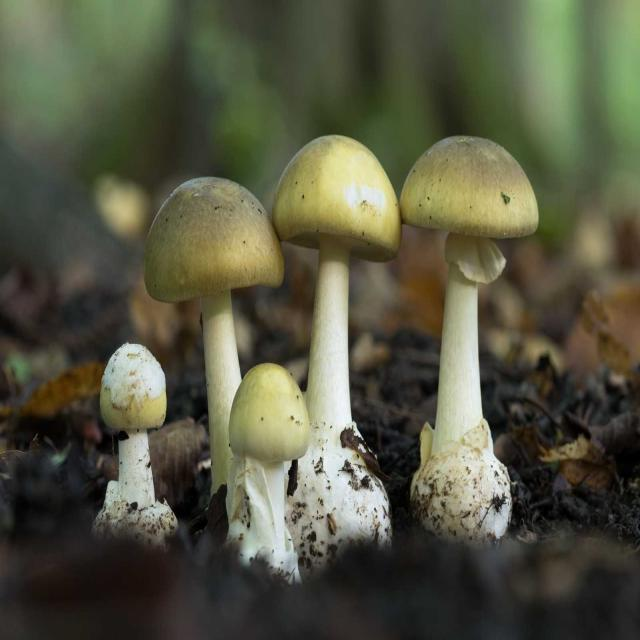death-cap: (399, 136, 539, 544), (271, 135, 402, 567), (143, 177, 285, 496), (92, 343, 178, 540), (229, 363, 310, 567)
